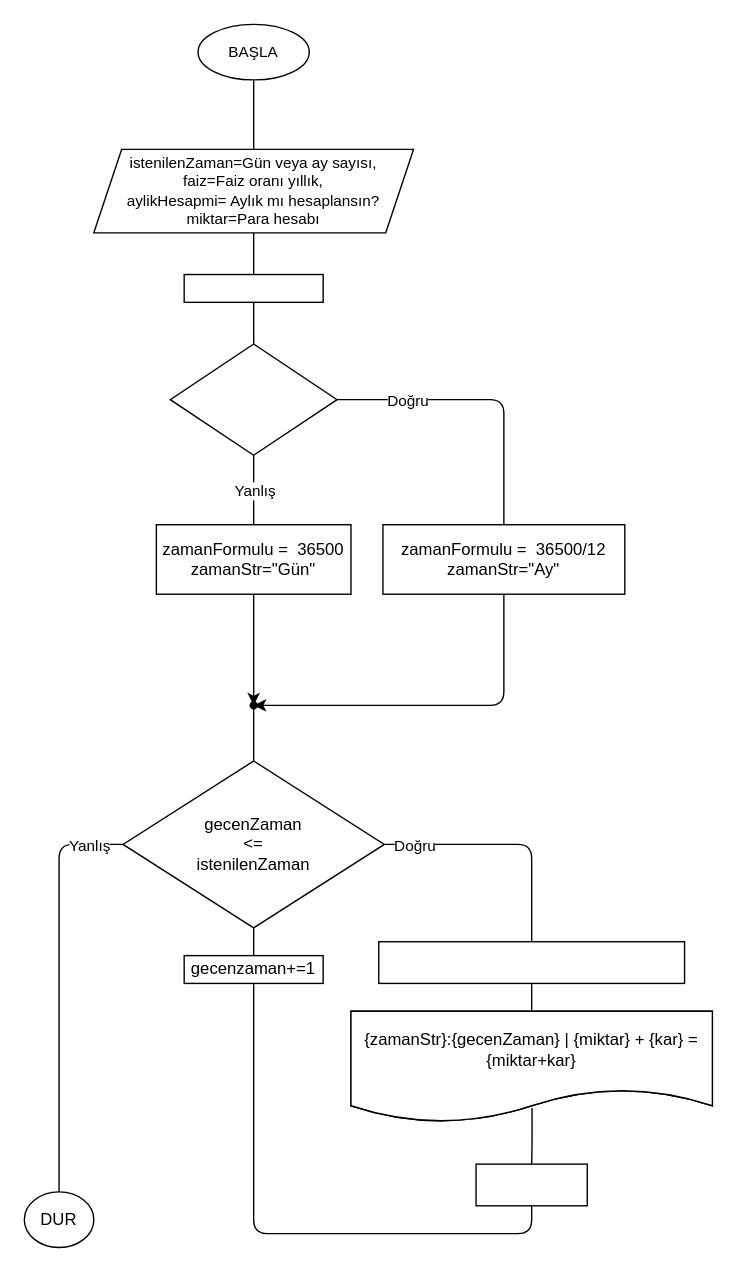
The diagram is 737 pixels wide and 1272 high, and some of its shapes have lost their labels. Here are the shapes that lost their labels. From the top down, the centre of each, then its label:
At point (253, 287): "gecenZaman=1".
At point (253, 399): "aylikHesapmi".
At point (531, 961): "kar = (miktar* faiz) / (zamanFormulu)".
At point (531, 1184): "miktar += kar".
